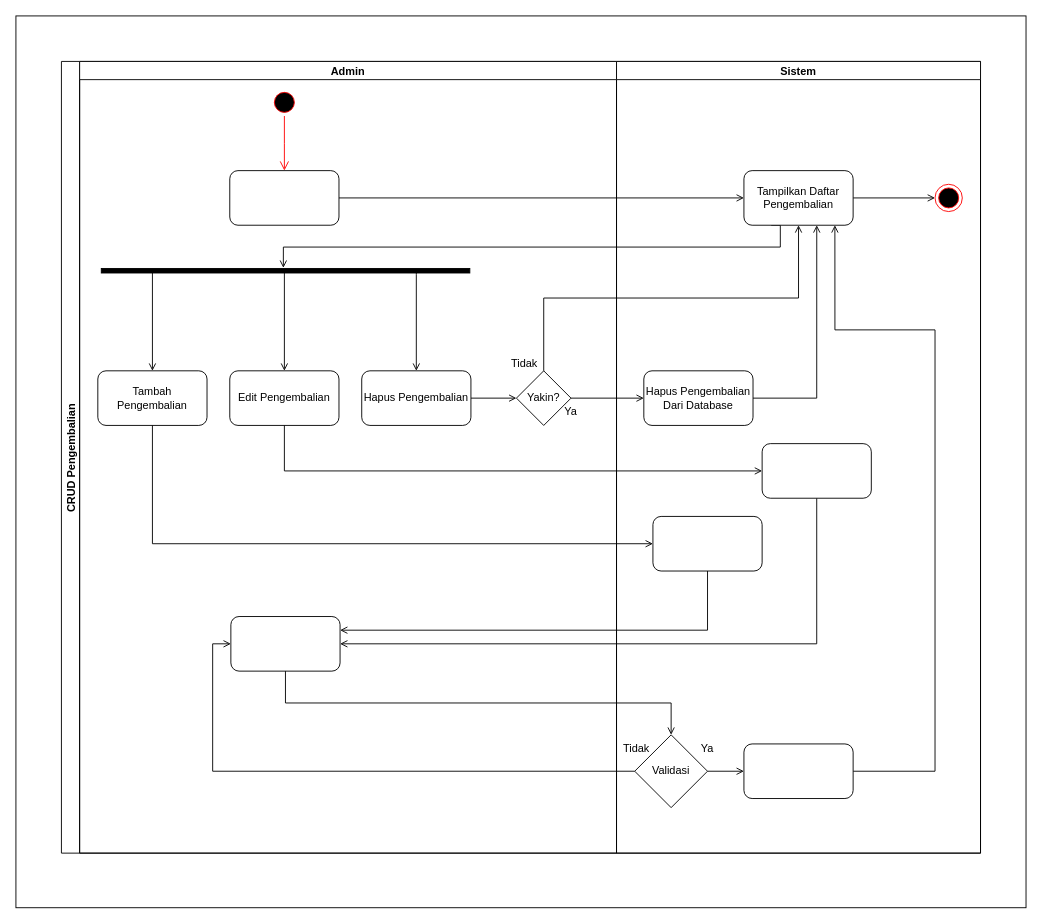
This 1042x924 diagram has some shape labels left out. Here are the shapes that lost their labels. From the top down, the centre of each, then its label:
At (284,197): "Buka Menu Pengembalian".
At (816,470): "Form Edit Pengembalian".
At (707,543): "Form Tambah Pengembalian".
At (285,643): "Input Pengembalian".
At (798,771): "Simpan Pengembalian ke Database".
